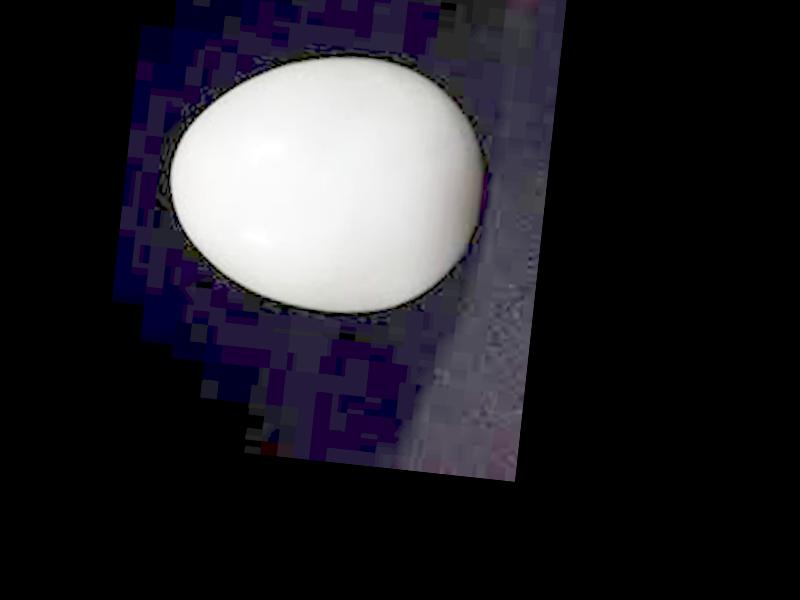Eggs: (160, 44, 496, 323)
